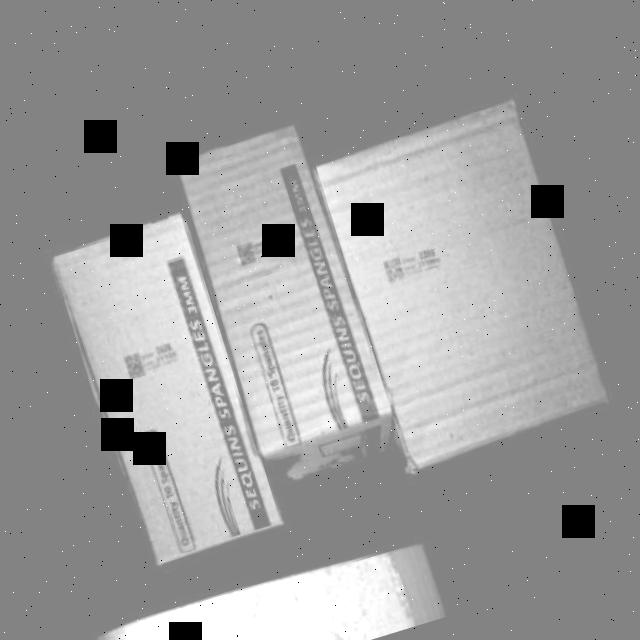box: (312, 100, 610, 466), (49, 213, 284, 566), (173, 114, 388, 452)
